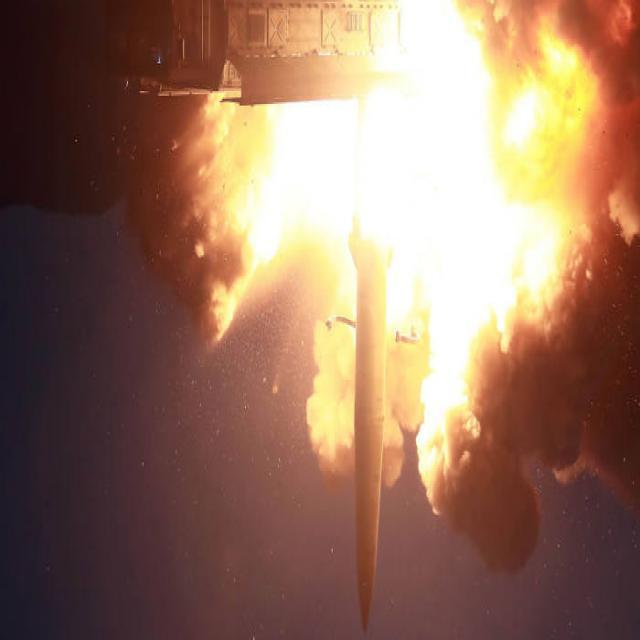missile: (345, 214, 400, 620)
